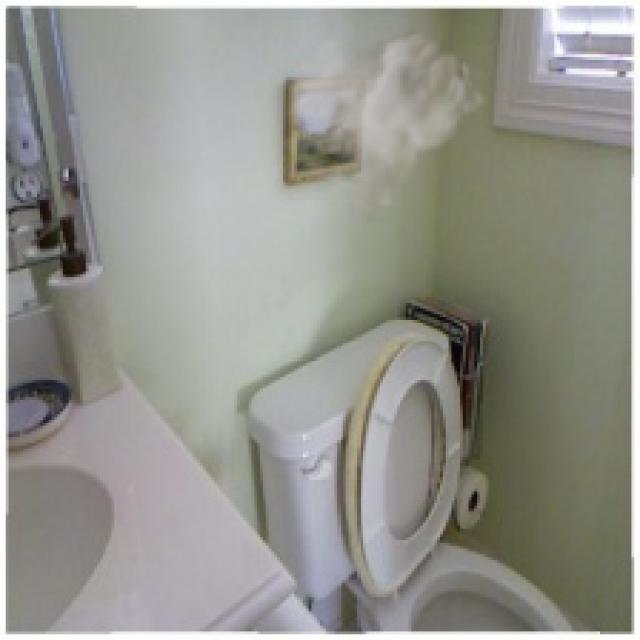smoke: (277, 8, 489, 232)
